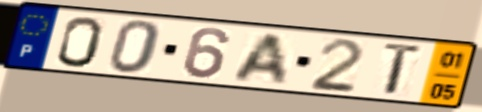0: (106, 18, 164, 75), (55, 15, 108, 69)
2: (308, 36, 365, 94)
6: (179, 26, 234, 80)
A: (229, 32, 290, 87)
T: (381, 40, 426, 98)
